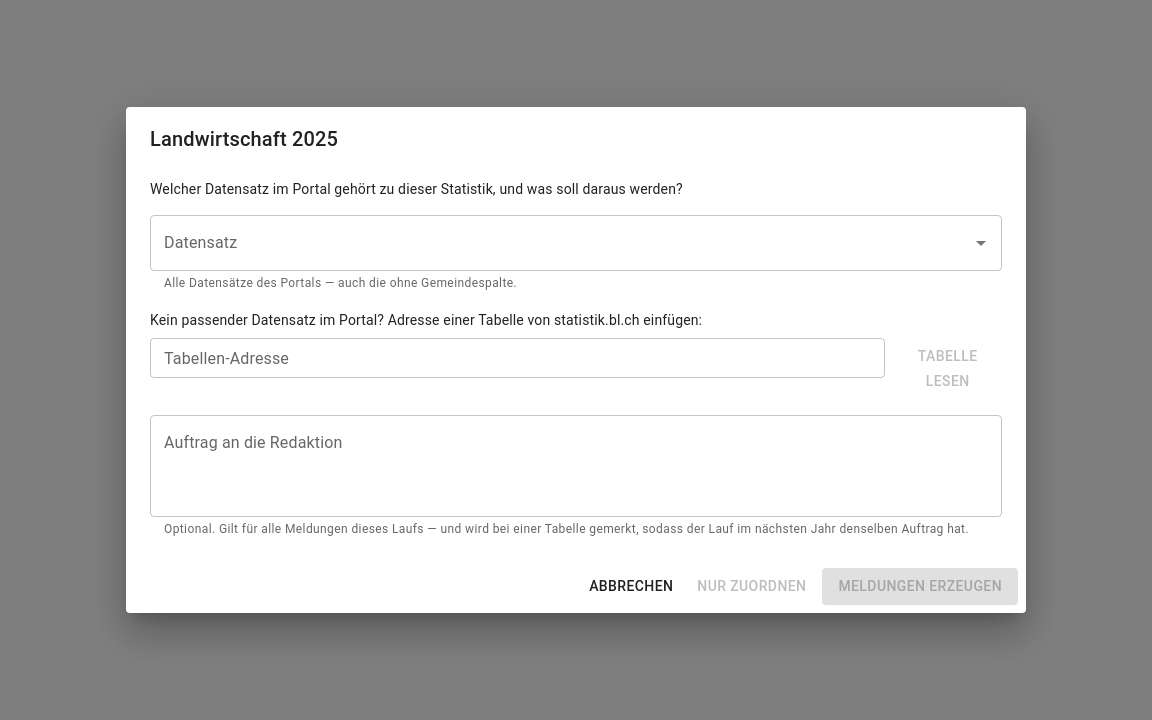
Tabelle von statistik.bl.ch › zeigt, wenn die Adresse nicht gelesen werden konnte
Step 1. Type "https://x.ch/y" into the field labelled "Tabellen-Adresse" → (518, 358), box x1=150 y1=338 x2=885 y2=378
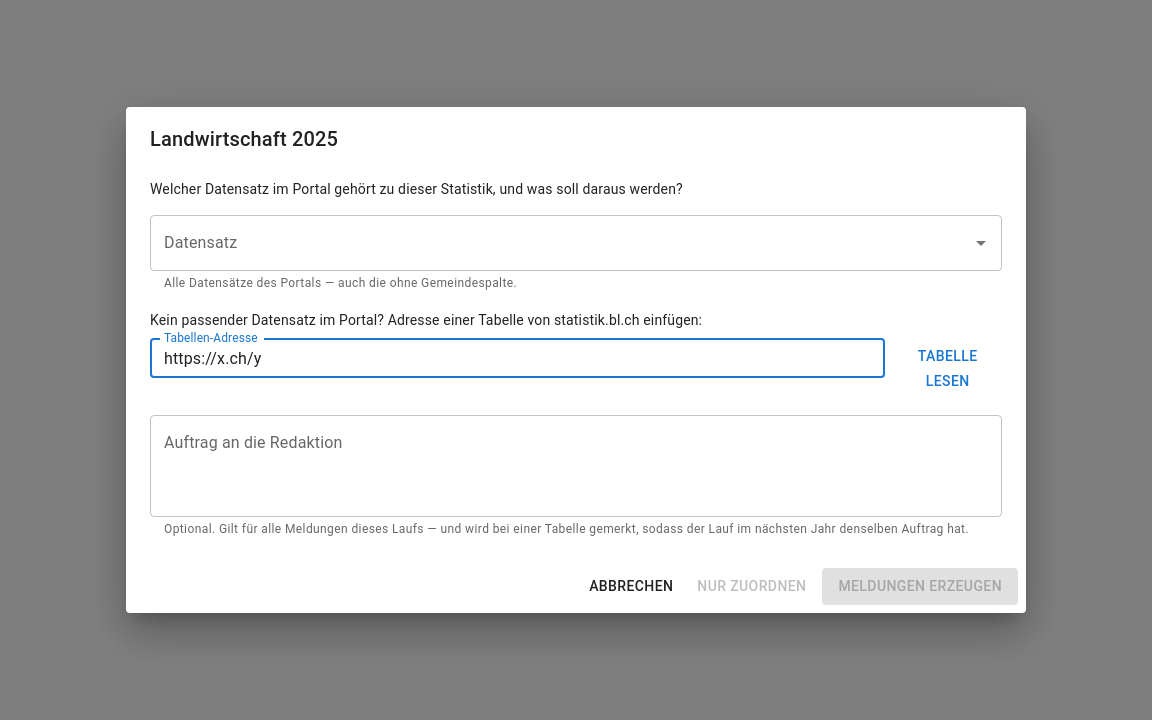
Step 2. Click the button "Tabelle lesen" → (948, 369), box x1=893 y1=338 x2=1002 y2=399
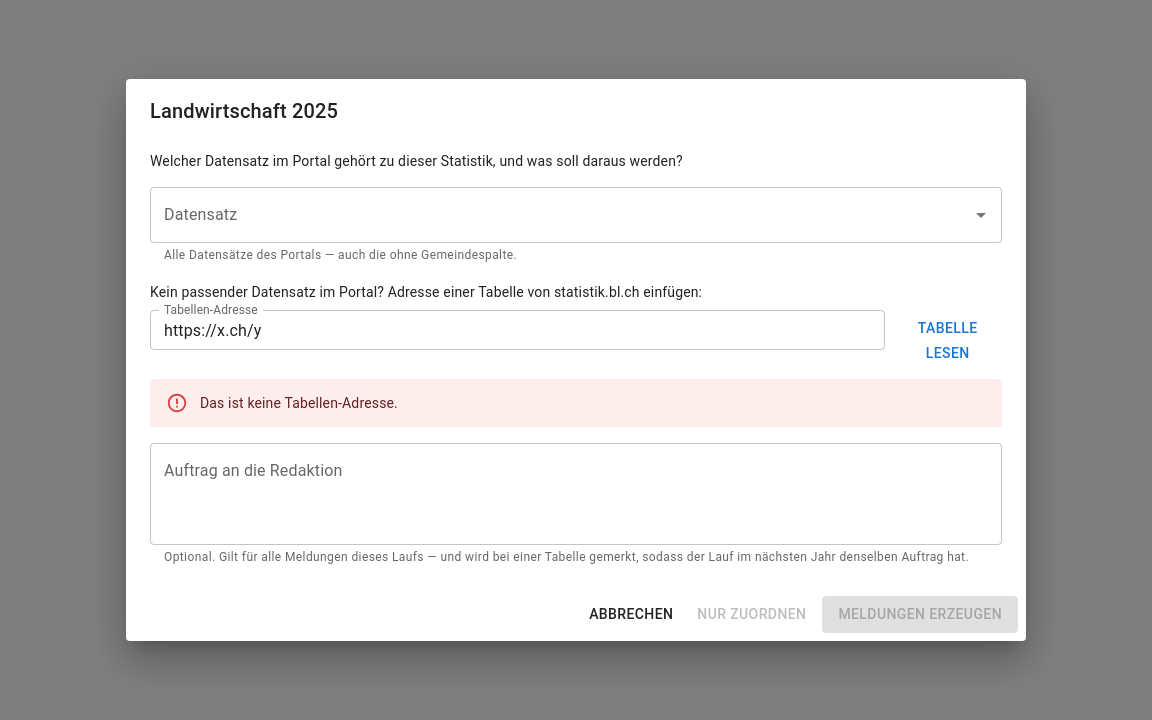
Expected: the text "Das ist keine Tabellen-Adresse." is shown, x1=200 y1=395 x2=398 y2=411
